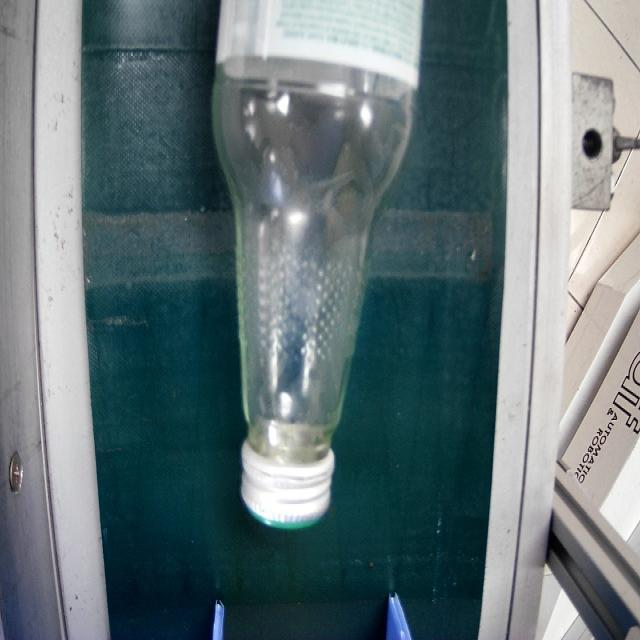Glass: (209, 3, 421, 538)
